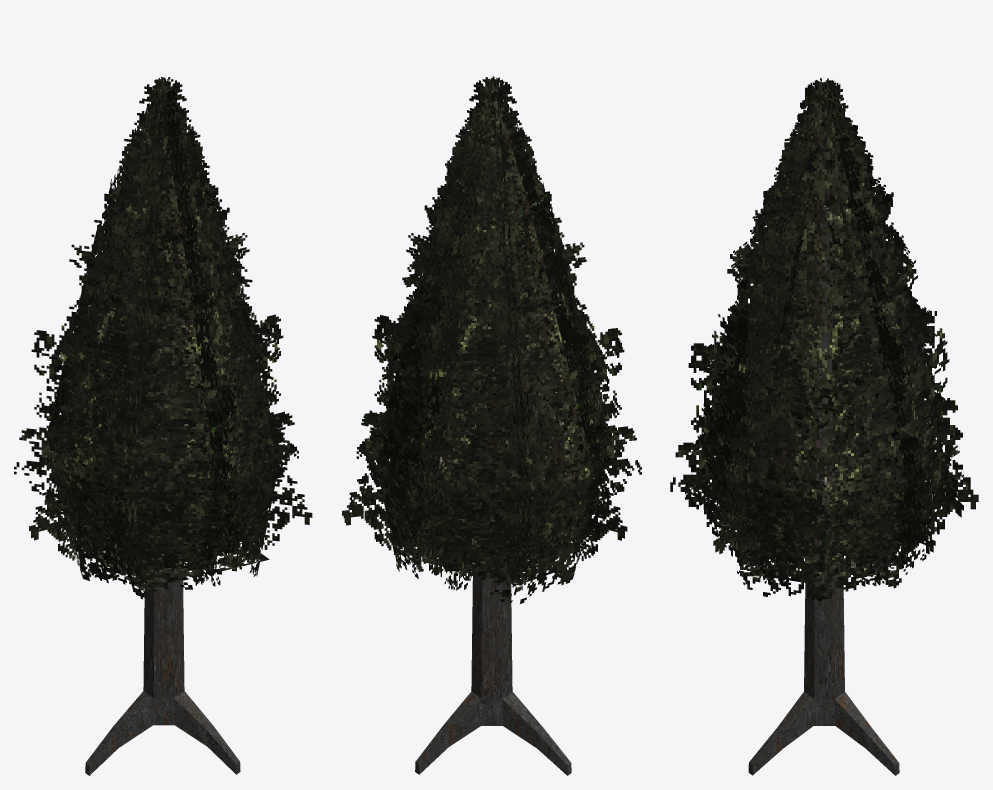
File: tree08.glb
3 views of the same model, side by side, from view 1: azimuth 30°, elevation 25°; view 2: azimuth 150°, elevation 25°; view 3: azimuth 270°, elevation 25° (orthographic).
Parts seen in each view (by area): view 1: tree08_top, tree08; view 2: tree08_top, tree08; view 3: tree08_top, tree08.
Part boxes in pixels (box(x1,y1,x2,y2)): tree08_top: box(14, 77, 312, 599); tree08: box(85, 217, 240, 775); tree08_top: box(342, 76, 641, 603); tree08: box(415, 214, 571, 775); tree08_top: box(670, 78, 978, 601); tree08: box(748, 205, 899, 775).
Bounding box in the file's own units: 2.1 × 5.09 × 2.1.
Materials: 1 (1 with a texture image).
